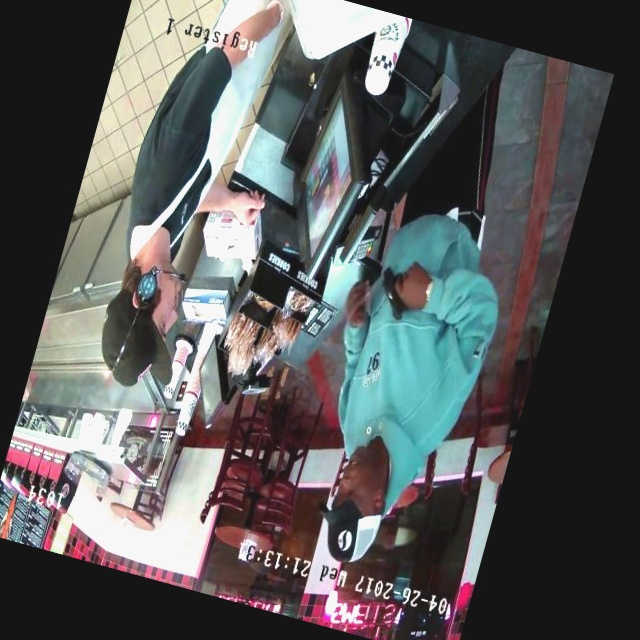gun: (359, 254, 439, 336)
